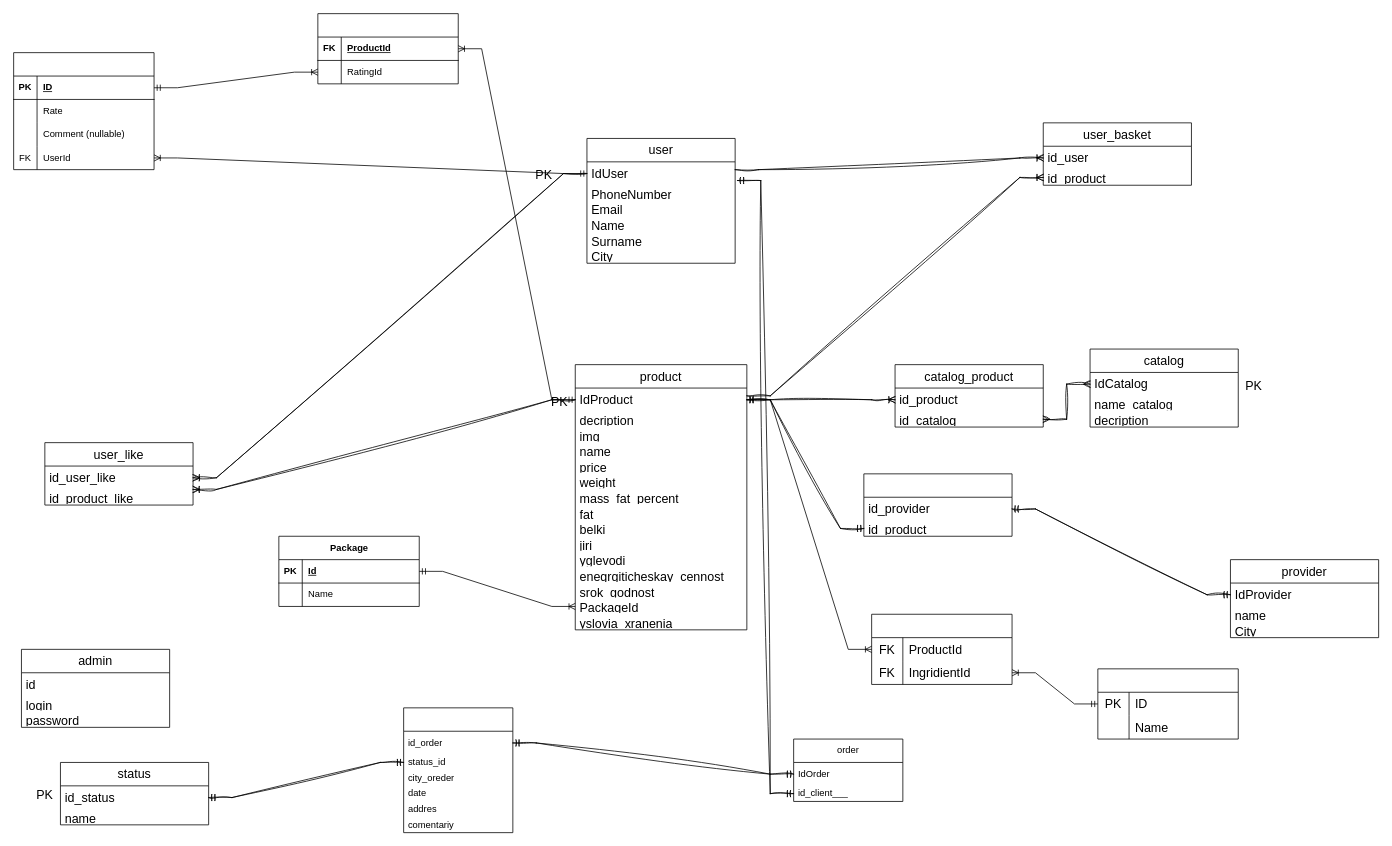
This 1392x846 diagram has some shape labels left out. Each missing label, with the box of its shape:
ingridient: (1097, 668, 1238, 739)
order_detail: (403, 707, 513, 833)
product-ingridients: (871, 613, 1012, 684)
Product-Rating: (317, 13, 458, 84)
provider_product: (863, 473, 1012, 536)
Rating: (13, 52, 154, 170)
